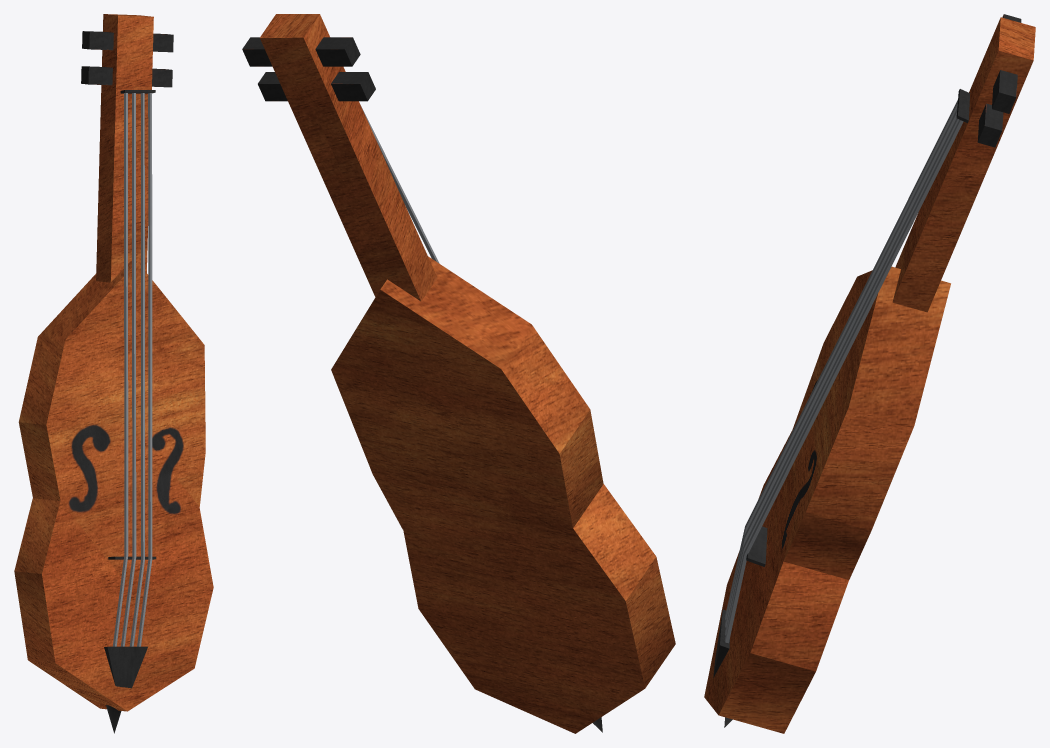
File: chello.fbx
3 views of the same model, side by side, from view 1: azimuth 30°, elevation 25°; view 2: azimuth 150°, elevation 25°; view 3: azimuth 270°, elevation 25° (orthographic). The views are drawn at different scales.
Parts seen in each view (by area): view 1: group459_pCube4515; view 2: group459_pCube4515; view 3: group459_pCube4515.
Boxes of the visible parts, x1,y1,x2,y2 form: group459_pCube4515: (14, 14, 213, 733); group459_pCube4515: (242, 14, 675, 733); group459_pCube4515: (704, 14, 1035, 733).
Bounding box in the file's own units: 0.6307 × 1.63 × 0.6264.
1 material, 1 textured.
